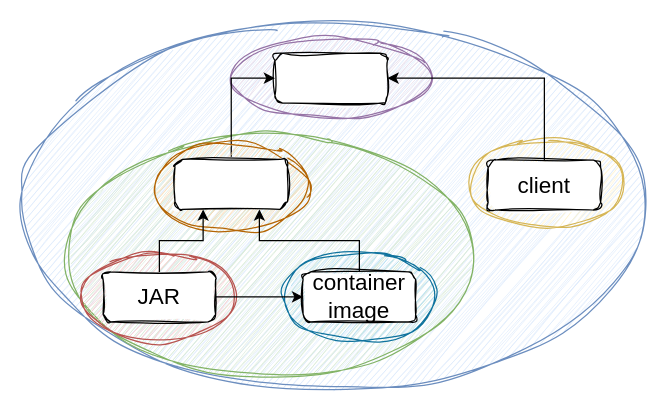
Some shapes in this 666 by 413 pixel diagram are drawn without their labels. Here are the shapes that lost their labels. From the top down, the box of each, then its label:
(274, 52, 388, 103): project
(174, 158, 288, 209): server project
